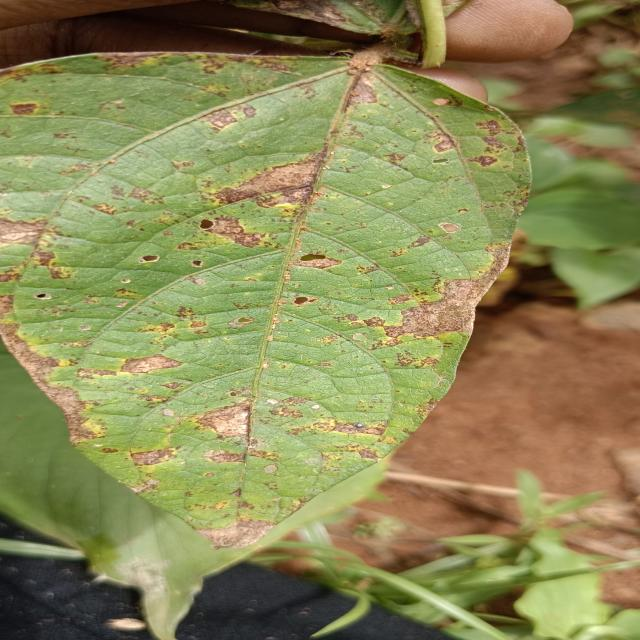Black gram_leaf spot: (0, 43, 543, 542)
